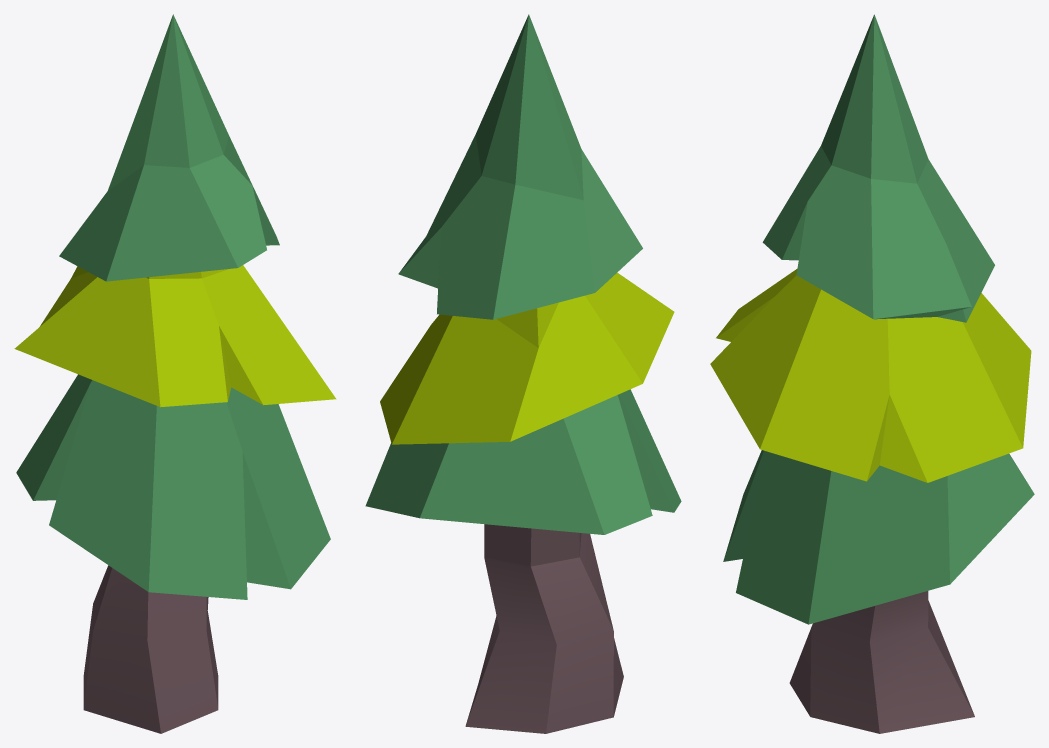
File: Tree2.fbx
The picture shows the model from 3 angles, left to right: view 1: azimuth 30°, elevation 25°; view 2: azimuth 150°, elevation 25°; view 3: azimuth 270°, elevation 25°; orthographic projection. The views are drawn at different scales.
Visible parts, largest first — view 1: Tree2; view 2: Tree2; view 3: Tree2.
Part boxes in pixels (x1,y1,x2,y2): Tree2: (14,14,336,733); Tree2: (365,14,681,733); Tree2: (710,14,1034,733).
Size of the model in its own units: 0.3323 by 0.8066 by 0.341.
